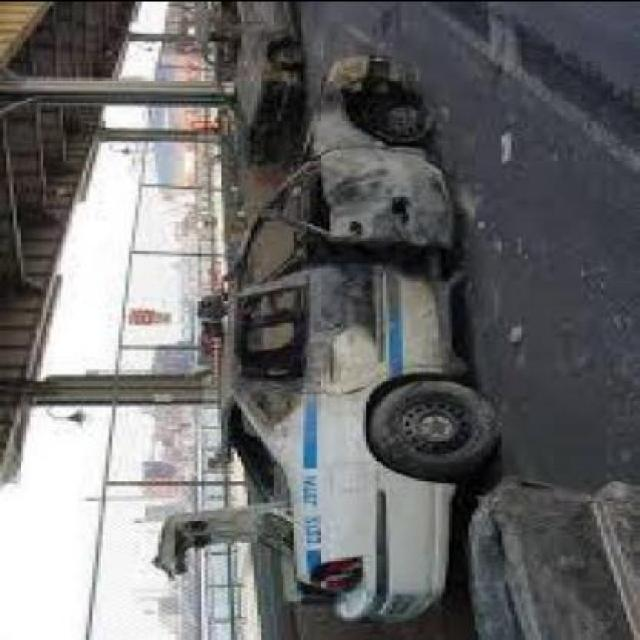damage: (216, 51, 454, 430)
